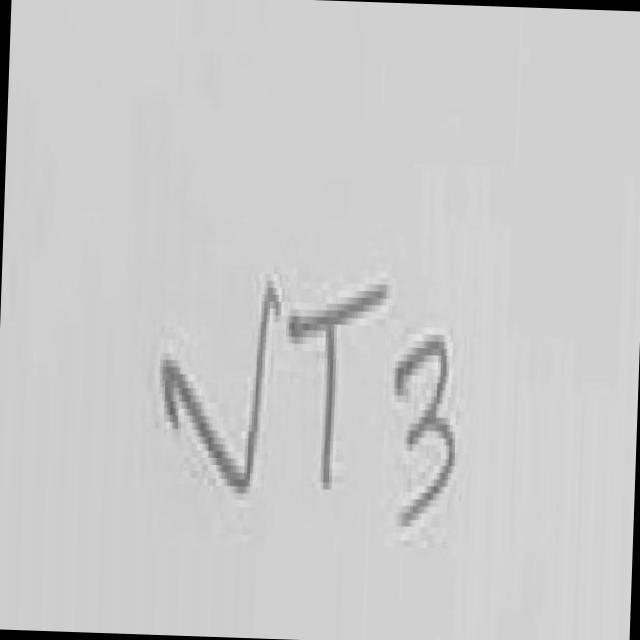3: (397, 335, 457, 523)
T: (289, 284, 389, 486)
V: (162, 280, 281, 493)
